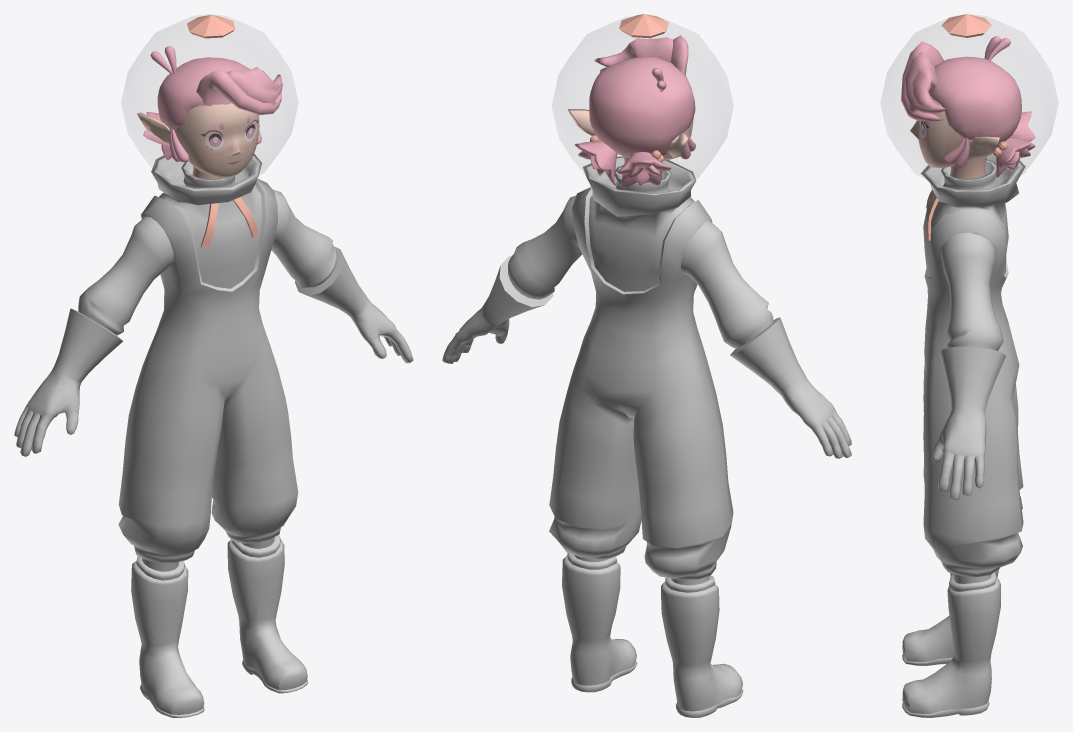
File: Main Character Model.fbx
The picture shows the model from 3 angles, left to right: view 1: azimuth 30°, elevation 25°; view 2: azimuth 150°, elevation 25°; view 3: azimuth 270°, elevation 25°; orthographic projection. The views are drawn at different scales.
Visible parts, largest first — view 1: Body, Head, Helmet, Accessories; view 2: Body, Head, Helmet, Accessories; view 3: Body, Head, Helmet, Accessories.
Part boxes in pixels (x1,y1,x2,y2): Body: [14, 154, 413, 717]; Head: [137, 46, 282, 179]; Helmet: [121, 14, 297, 182]; Accessories: [161, 15, 258, 248]; Body: [442, 156, 851, 717]; Head: [568, 35, 695, 187]; Helmet: [552, 17, 732, 188]; Accessories: [590, 14, 668, 162]; Body: [902, 153, 1025, 717]; Head: [901, 36, 1035, 179]; Helmet: [881, 15, 1057, 183]; Accessories: [926, 14, 1007, 240].
Bounding box in the file's own units: 9.32 × 15.16 × 3.67.
